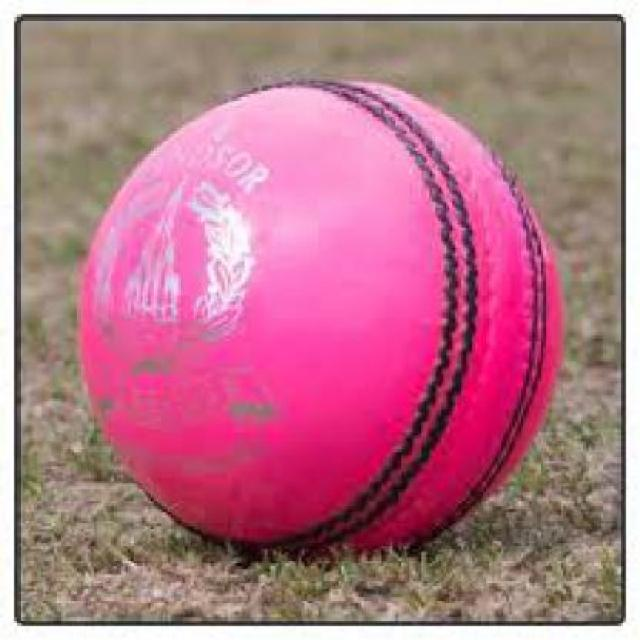ball: (49, 59, 585, 559)
